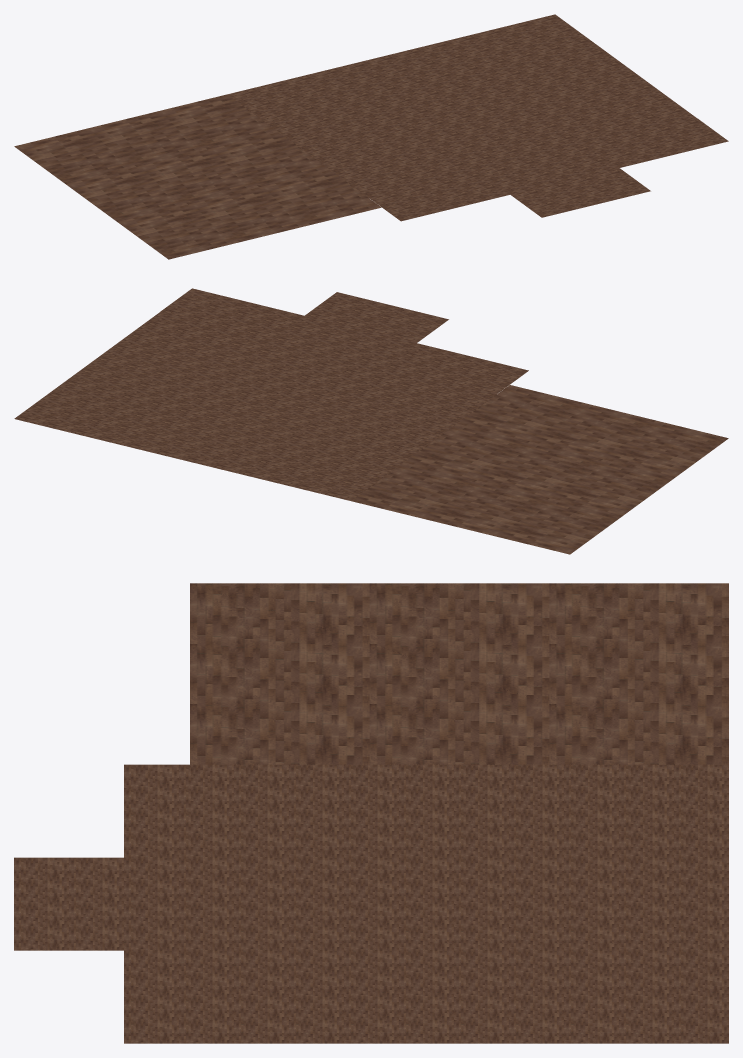
Rendered from 1stFloor.fbx.
3 renders of one model, top to bottom at view 1: azimuth 30°, elevation 25°; view 2: azimuth 150°, elevation 25°; view 3: azimuth 270°, elevation 25°, orthographic. The views are drawn at different scales.
Parts seen in each view (by area): view 1: Floor_3m.015, Floor_3m.007, Floor_3m.008, Floor_3m.012, Floor_3m.003, Floor_3m.004, Floor_3m.005, Floor_3m.009, Floor_3m.006, Floor_3m.011, Floor_3m.017, Floor_3m.010 (+33 smaller); view 2: Floor_3m.015, Floor_3m.007, Floor_3m.009, Floor_3m.004, Floor_3m.005, Floor_3m.006, Floor_3m.011, Floor_3m.003, Floor_3m.010, Floor_3m.012, Floor_3m.017, Floor_3m.008 (+33 smaller); view 3: Floor_3m.015, Floor_3m.003, Floor_3m.007, Floor_3m.017, Floor_3m.011, Floor_3m.012, Floor_3m.018, Floor_3m.004, Floor_3m.005, Floor_3m.006, Floor_3m.008, Floor_3m.009 (+33 smaller).
Part boxes in pixels (x1=…): Floor_3m.015: x1=14, y1=94, x2=381, y2=259; Floor_3m.007: x1=275, y1=109, x2=403, y2=163; Floor_3m.008: x1=391, y1=34, x2=519, y2=88; Floor_3m.012: x1=521, y1=49, x2=649, y2=103; Floor_3m.003: x1=227, y1=74, x2=355, y2=128; Floor_3m.004: x1=309, y1=54, x2=437, y2=108; Floor_3m.005: x1=357, y1=89, x2=485, y2=143; Floor_3m.009: x1=439, y1=69, x2=567, y2=123; Floor_3m.006: x1=404, y1=123, x2=532, y2=178; Floor_3m.011: x1=473, y1=14, x2=601, y2=68; Floor_3m.017: x1=322, y1=143, x2=450, y2=198; Floor_3m.010: x1=486, y1=103, x2=614, y2=158; Floor_3m.015: x1=351, y1=385, x2=728, y2=554; Floor_3m.007: x1=316, y1=409, x2=447, y2=465; Floor_3m.009: x1=147, y1=368, x2=279, y2=424; Floor_3m.004: x1=183, y1=424, x2=314, y2=480; Floor_3m.005: x1=231, y1=389, x2=363, y2=444; Floor_3m.006: x1=280, y1=353, x2=412, y2=409; Floor_3m.011: x1=14, y1=383, x2=146, y2=439; Floor_3m.003: x1=267, y1=445, x2=399, y2=500; Floor_3m.010: x1=196, y1=332, x2=327, y2=388; Floor_3m.012: x1=63, y1=348, x2=194, y2=403; Floor_3m.017: x1=364, y1=374, x2=496, y2=429; Floor_3m.008: x1=98, y1=404, x2=230, y2=459; Floor_3m.015: x1=190, y1=583, x2=728, y2=764; Floor_3m.003: x1=564, y1=764, x2=728, y2=834; Floor_3m.007: x1=399, y1=764, x2=563, y2=834; Floor_3m.017: x1=234, y1=764, x2=398, y2=834; Floor_3m.011: x1=564, y1=973, x2=728, y2=1043; Floor_3m.012: x1=399, y1=973, x2=563, y2=1043; Floor_3m.018: x1=234, y1=973, x2=398, y2=1043; Floor_3m.004: x1=564, y1=834, x2=728, y2=903; Floor_3m.005: x1=399, y1=834, x2=563, y2=903; Floor_3m.006: x1=234, y1=834, x2=398, y2=903; Floor_3m.008: x1=564, y1=904, x2=728, y2=973; Floor_3m.009: x1=399, y1=904, x2=563, y2=973.
Bounding box in the file's own units: 1981 × 3.55e-05 × 1300.
